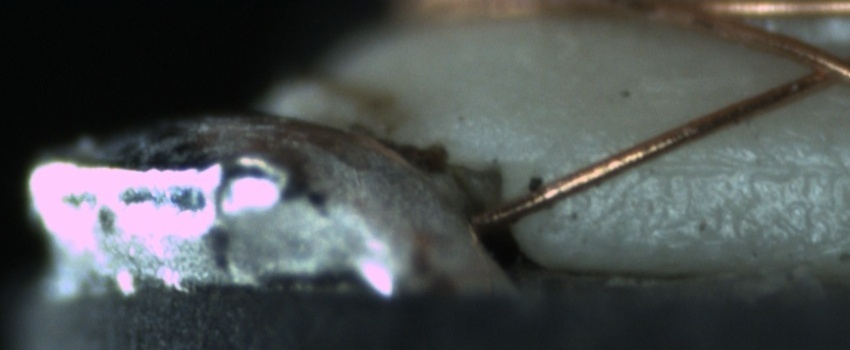CL: (790, 41, 848, 90)
DL: (611, 131, 845, 199)
